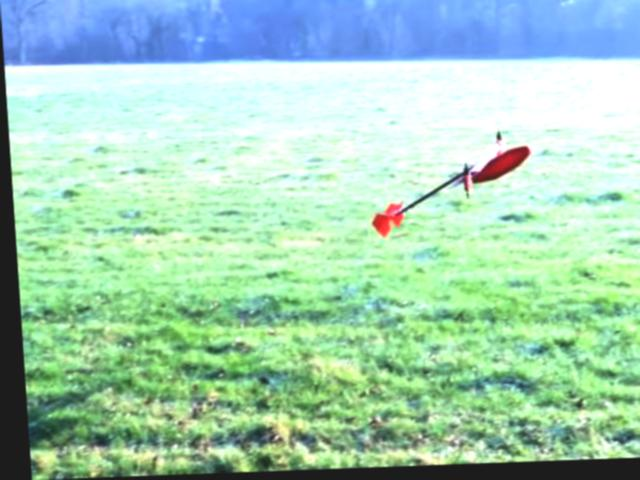uav: (363, 140, 536, 253)
